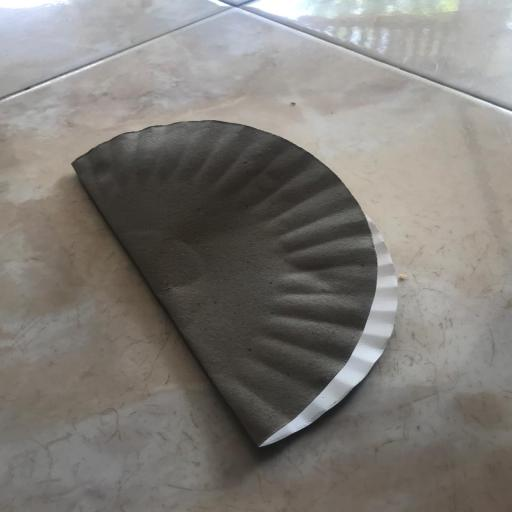waste: (58, 107, 406, 446)
